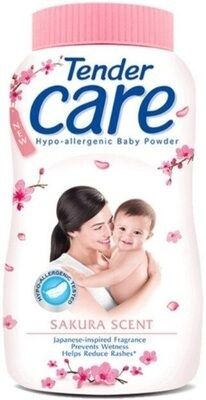tender care powder w 50g: (10, 20, 196, 380)
